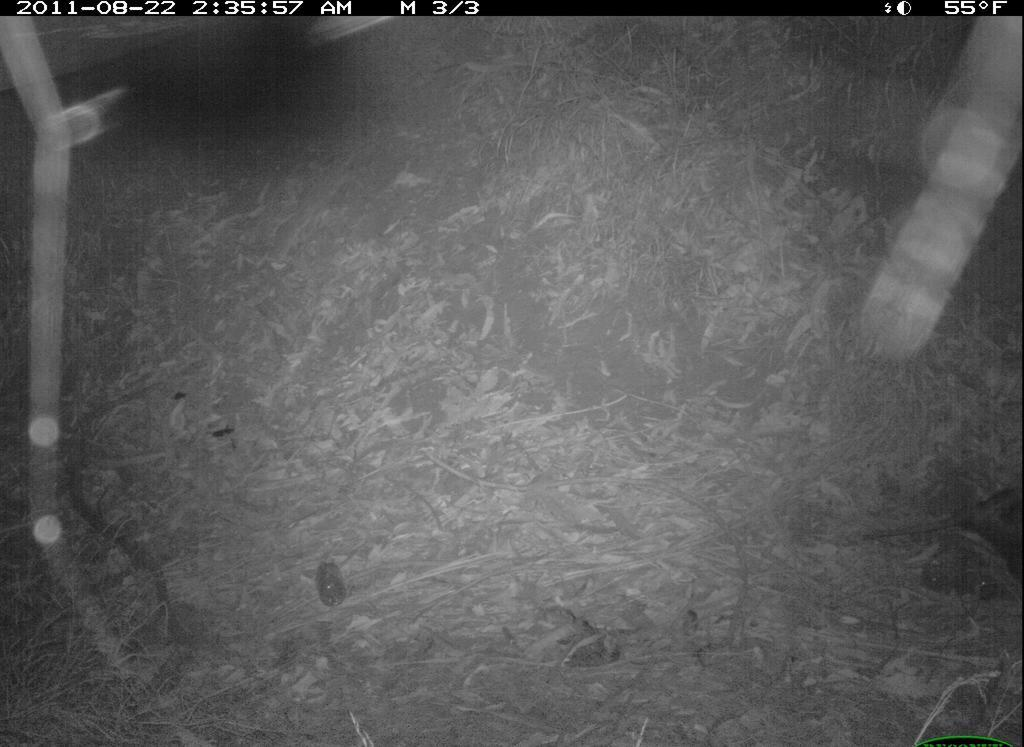opossum: (827, 474, 1023, 615)
